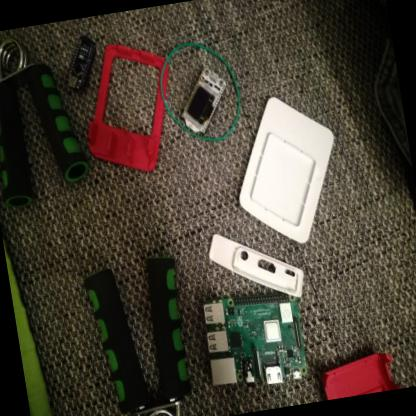Arduino_Nano: (56, 29, 106, 96)
Heltec_ESP32_Lora: (174, 63, 237, 140)
Raspberry_Pi_3: (199, 286, 317, 398)
